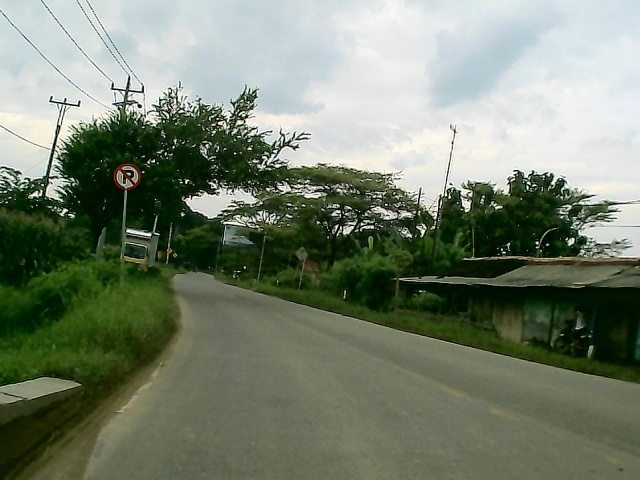Dilarang parkir: (113, 162, 144, 191)
